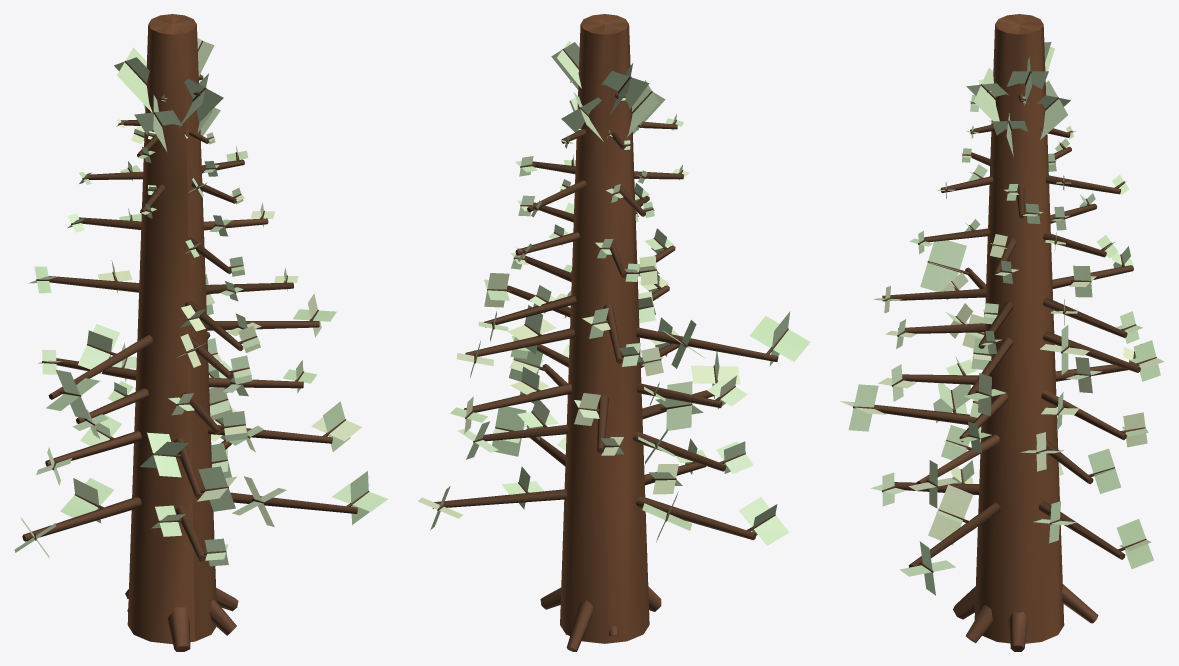
The model's file is standard-lod1.glb.
3 views of the same model, side by side, from view 1: azimuth 30°, elevation 25°; view 2: azimuth 150°, elevation 25°; view 3: azimuth 270°, elevation 25° (orthographic).
Visible parts, largest first — view 1: pine-trunk-branches-buried-roots-ground-blend, pine-terminal-needle-sprigs; view 2: pine-trunk-branches-buried-roots-ground-blend, pine-terminal-needle-sprigs; view 3: pine-trunk-branches-buried-roots-ground-blend, pine-terminal-needle-sprigs.
Part boxes in pixels (bbox=[...]): pine-trunk-branches-buried-roots-ground-blend: bbox=[22, 14, 369, 651]; pine-terminal-needle-sprigs: bbox=[14, 37, 387, 566]; pine-trunk-branches-buried-roots-ground-blend: bbox=[432, 14, 788, 651]; pine-terminal-needle-sprigs: bbox=[418, 41, 810, 545]; pine-trunk-branches-buried-roots-ground-blend: bbox=[853, 14, 1156, 651]; pine-terminal-needle-sprigs: bbox=[839, 42, 1164, 595].
Bounding box in the file's own units: 11.07 × 19.21 × 9.4.
